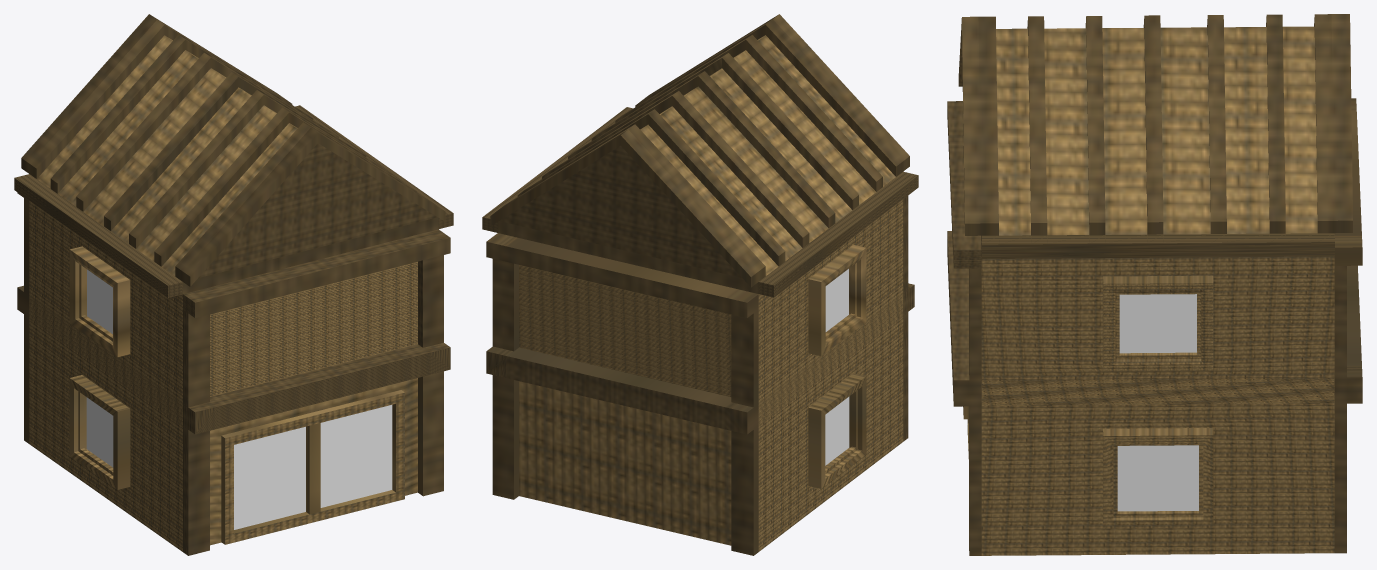
File: house inside 1.fbx
The picture shows the model from 3 angles, left to right: view 1: azimuth 30°, elevation 25°; view 2: azimuth 150°, elevation 25°; view 3: azimuth 270°, elevation 25°; orthographic projection. The views are drawn at different scales.
Parts seen in each view (by area): view 1: pCube1; view 2: pCube1; view 3: pCube1.
Part boxes in pixels (x1,y1,x2,y2): pCube1: [14, 14, 453, 555]; pCube1: [482, 14, 918, 555]; pCube1: [947, 14, 1362, 555].
Size of the model in its own units: 21.58 by 27.6 by 22.33.
